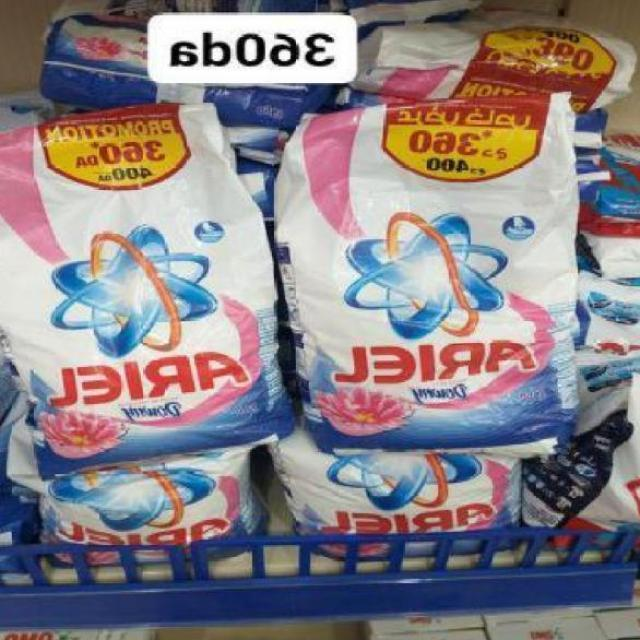Detergent: (266, 81, 598, 446), (2, 109, 283, 459), (279, 443, 540, 551), (38, 447, 260, 553)
